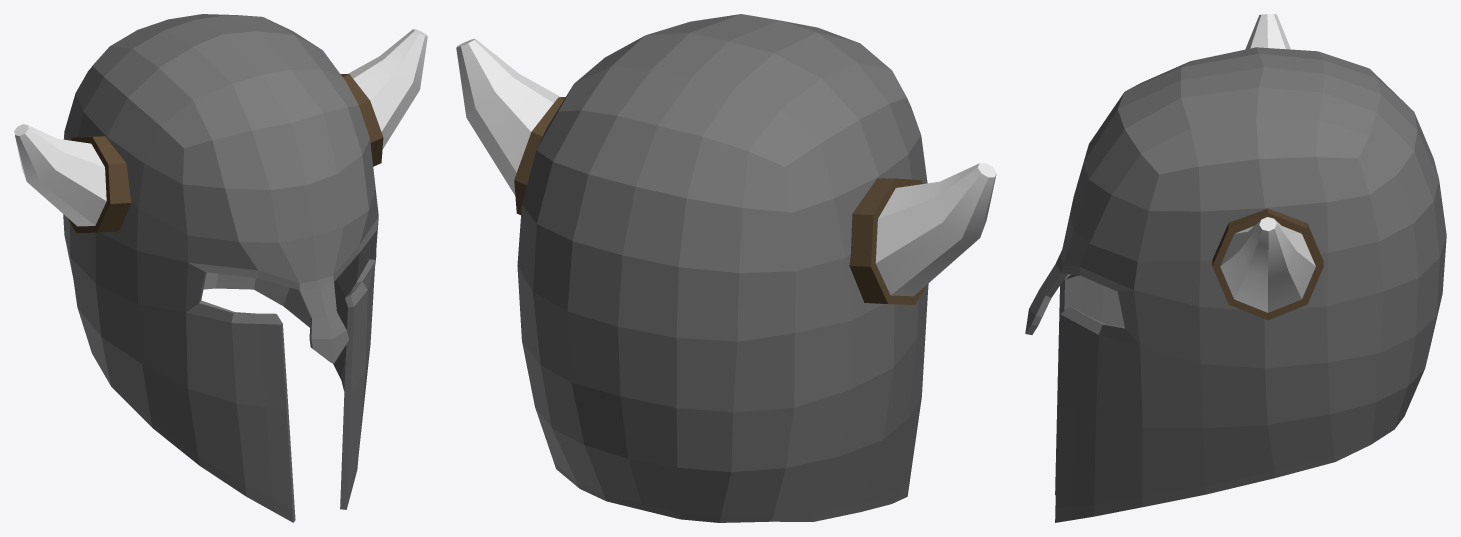
Rendered from Warrior Helmet.fbx.
The picture shows the model from 3 angles, left to right: view 1: azimuth 30°, elevation 25°; view 2: azimuth 150°, elevation 25°; view 3: azimuth 270°, elevation 25°; orthographic projection. The views are drawn at different scales.
Parts seen in each view (by area): view 1: FantasyHelmet_Helmet1; view 2: FantasyHelmet_Helmet1; view 3: FantasyHelmet_Helmet1.
Part boxes in pixels (bbox=[...]): FantasyHelmet_Helmet1: bbox=[14, 14, 427, 522]; FantasyHelmet_Helmet1: bbox=[456, 14, 996, 522]; FantasyHelmet_Helmet1: bbox=[1025, 14, 1446, 522].
Bounding box in the file's own units: 3.98 × 3.8 × 3.28.
